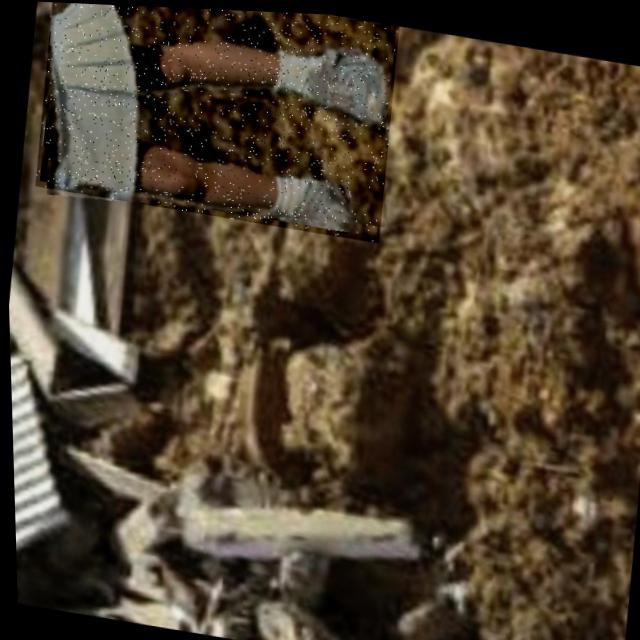Person in Rubble: (29, 1, 403, 239)
